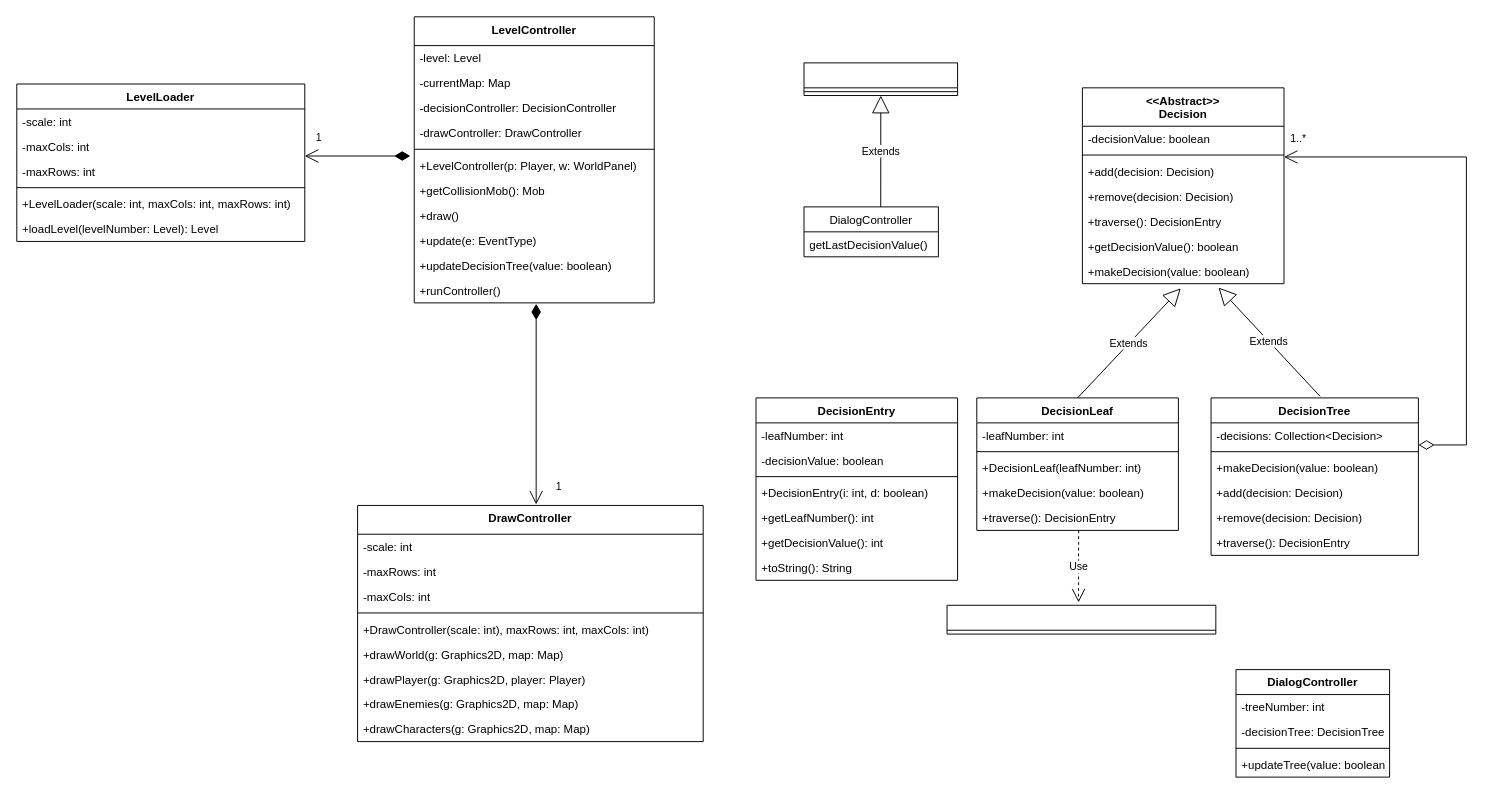
This 1500x797 diagram has some shape labels left out. The shapes that lost their labels are listed below. From the top down, each one's centre as x and y in pixels, then its label:
At point (880, 79): "GameController".
At point (1081, 619): "java.lang.UnsopportedOperationException".
